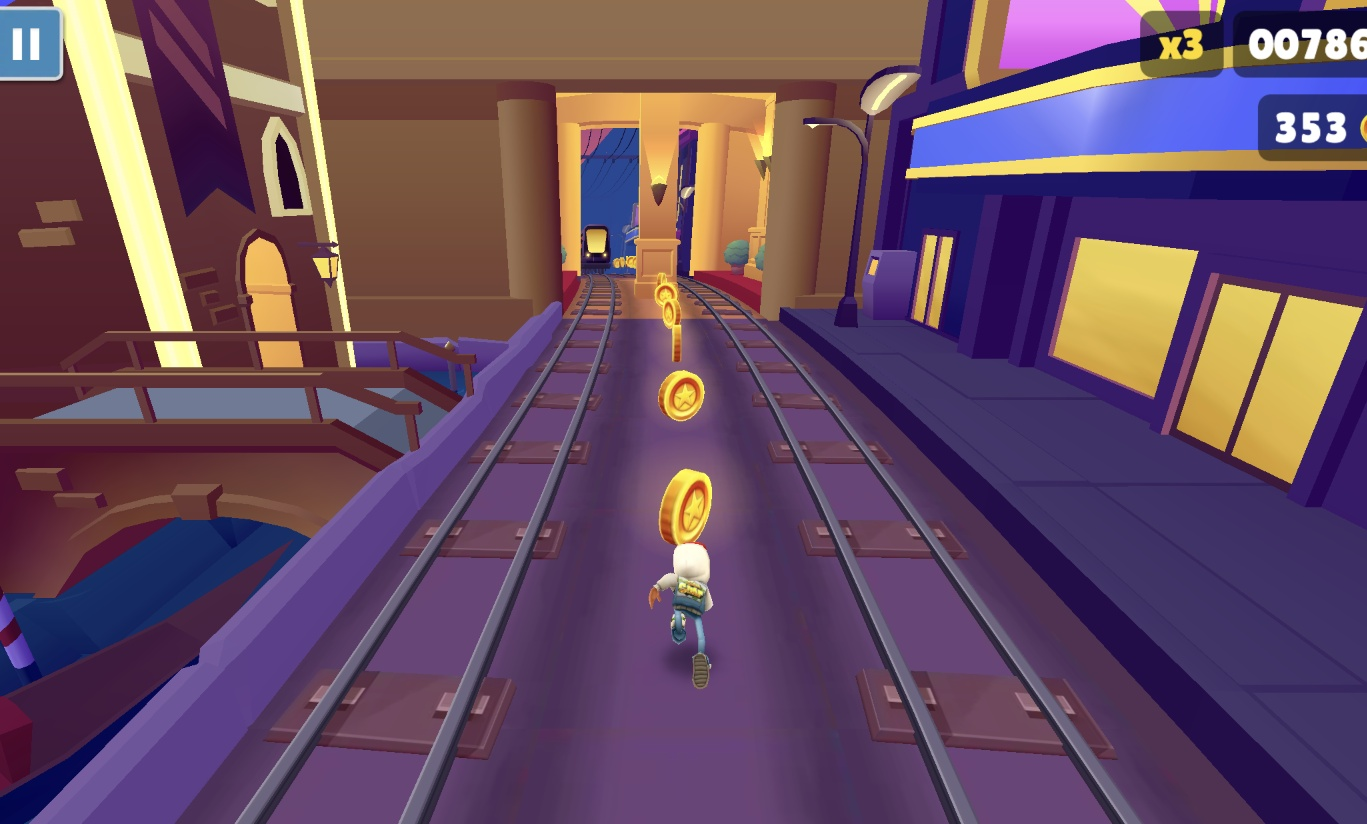pillar: (635, 93, 683, 300)
train: (581, 225, 609, 275)
